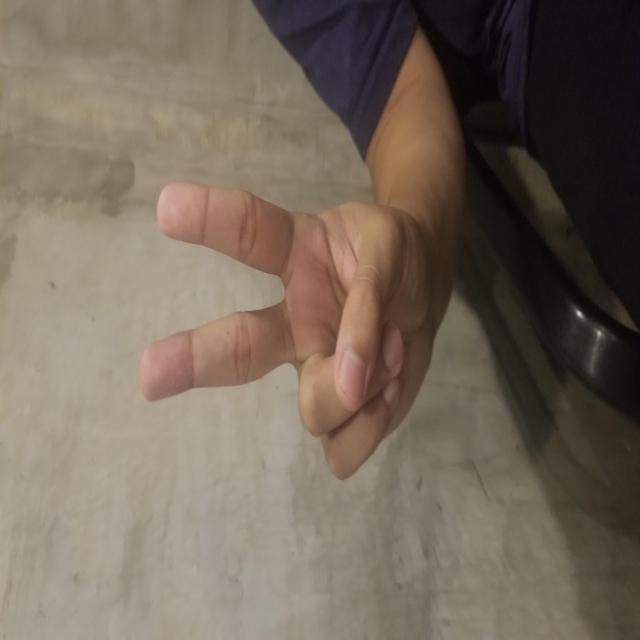V: (156, 138, 462, 437)
